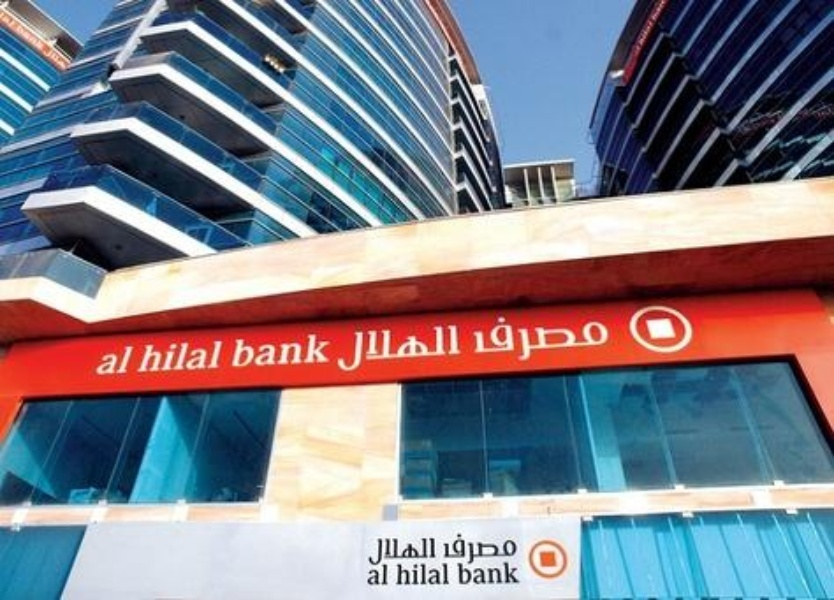text: (449, 322, 465, 379), (353, 322, 368, 379), (369, 322, 384, 379), (385, 322, 400, 379), (401, 322, 416, 379), (417, 322, 432, 379), (433, 322, 448, 379), (481, 310, 496, 366), (497, 310, 512, 366), (513, 310, 528, 366), (529, 310, 544, 366), (545, 310, 560, 366), (561, 310, 576, 366), (577, 310, 592, 366), (593, 310, 608, 366), (340, 322, 352, 379), (145, 338, 160, 377), (161, 338, 176, 377), (177, 338, 192, 377), (193, 338, 208, 377), (209, 338, 224, 377), (241, 331, 256, 370), (257, 331, 272, 370), (273, 331, 288, 370), (289, 331, 304, 370), (305, 331, 320, 370), (470, 310, 480, 366), (321, 331, 335, 370), (113, 344, 128, 379), (449, 534, 464, 567), (465, 534, 480, 567), (481, 534, 496, 567), (497, 534, 512, 567), (99, 344, 112, 379), (385, 537, 400, 567), (401, 537, 416, 567), (417, 537, 432, 567), (370, 537, 384, 567), (369, 562, 384, 586), (465, 562, 480, 586), (481, 562, 496, 586), (497, 562, 512, 586), (609, 310, 615, 366), (513, 534, 523, 567), (401, 564, 416, 586), (417, 564, 432, 586), (433, 564, 448, 586), (129, 344, 138, 379), (233, 331, 240, 370), (456, 562, 464, 586), (513, 562, 521, 586), (433, 537, 439, 567), (444, 534, 448, 567), (395, 564, 400, 586), (385, 562, 389, 586), (365, 562, 368, 586), (449, 564, 451, 586), (225, 338, 226, 377)
